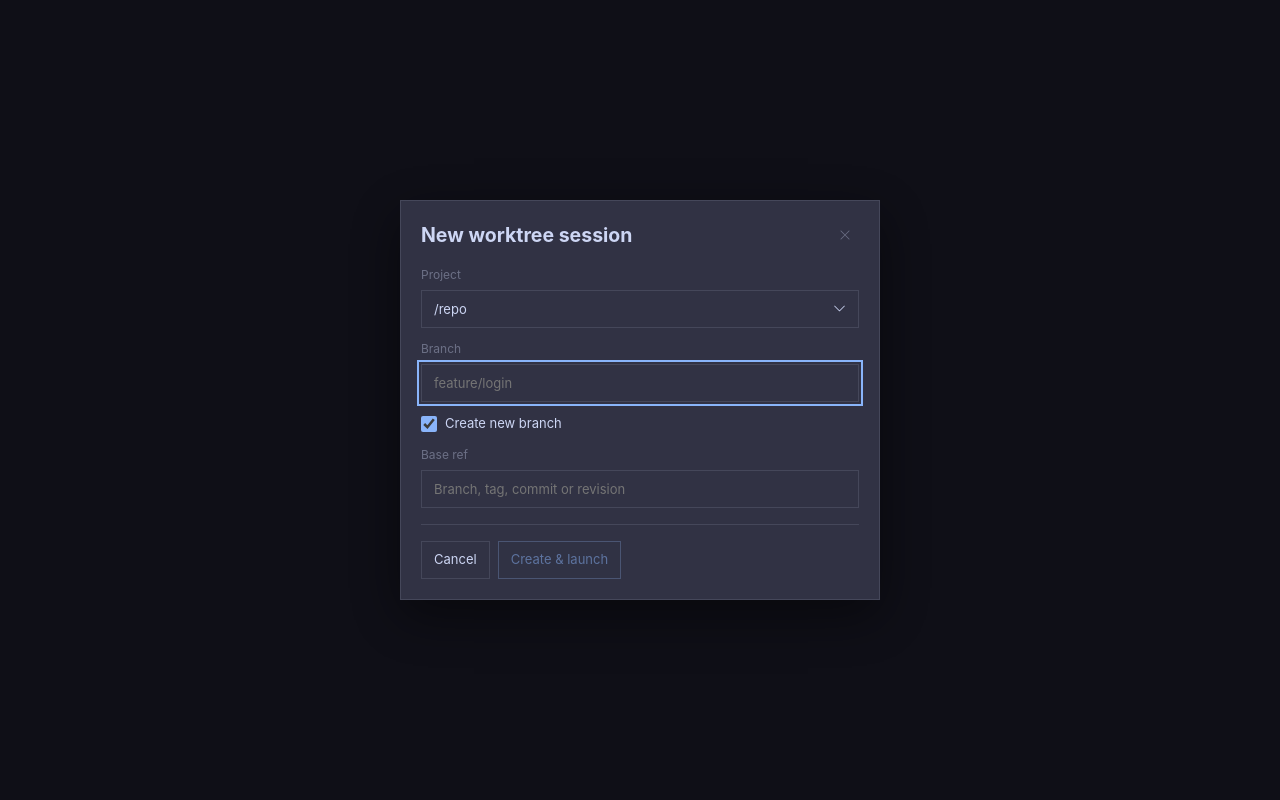
Test: WorktreeFormModal machine ownership › keeps base-ref validation when creating a new branch
Step 1. Type "feature/settings" into the field labelled "Branch" → point(640, 383), box x1=421 y1=364 x2=859 y2=402
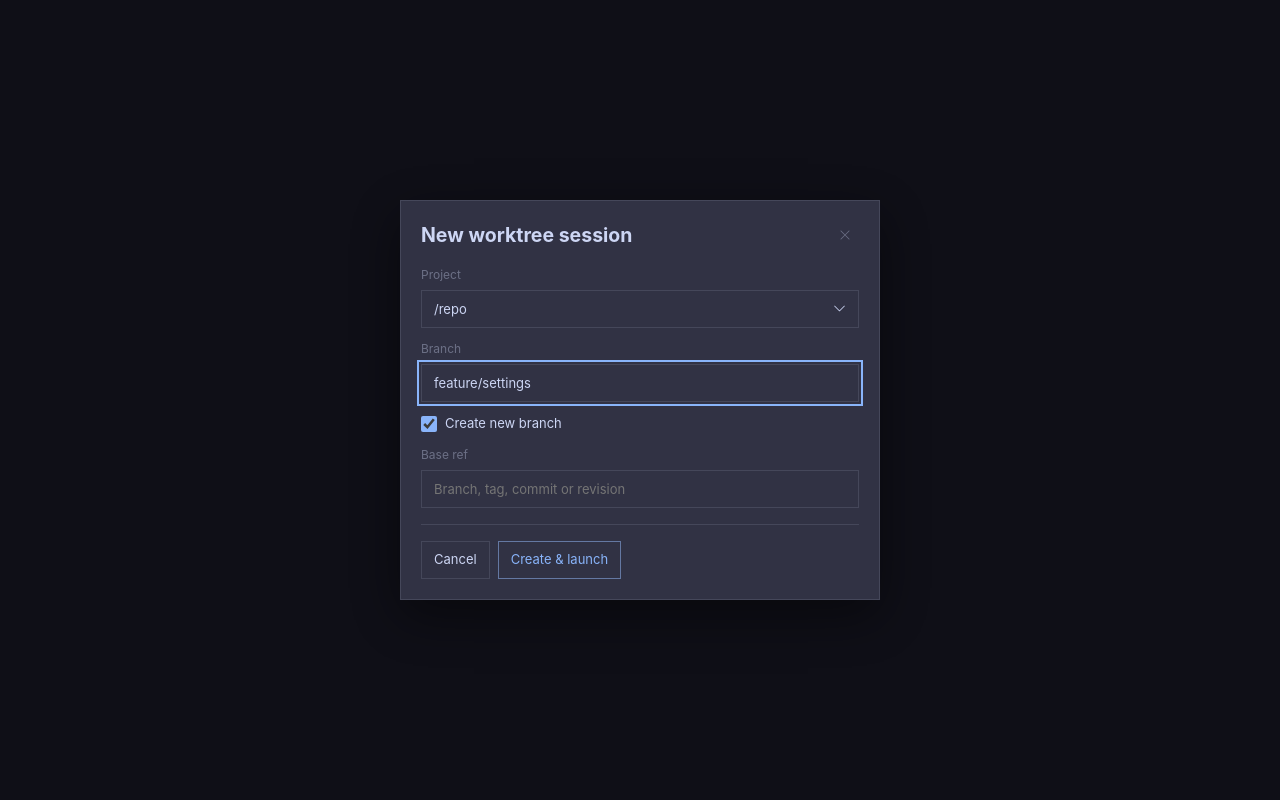
Step 2. Click the button "Create & launch" → point(559, 560), box x1=498 y1=541 x2=621 y2=579
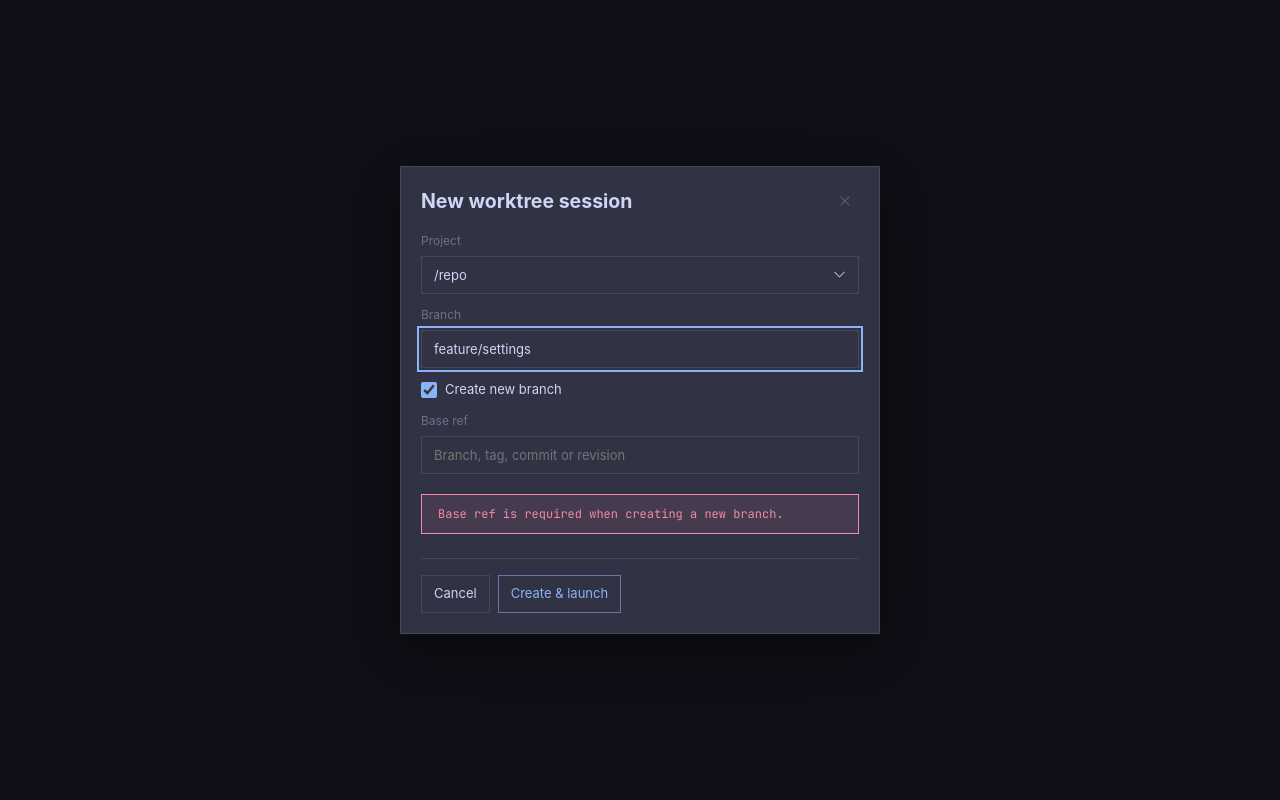
Check: the message shows "Base ref is required", box x1=438 y1=506 x2=784 y2=522
